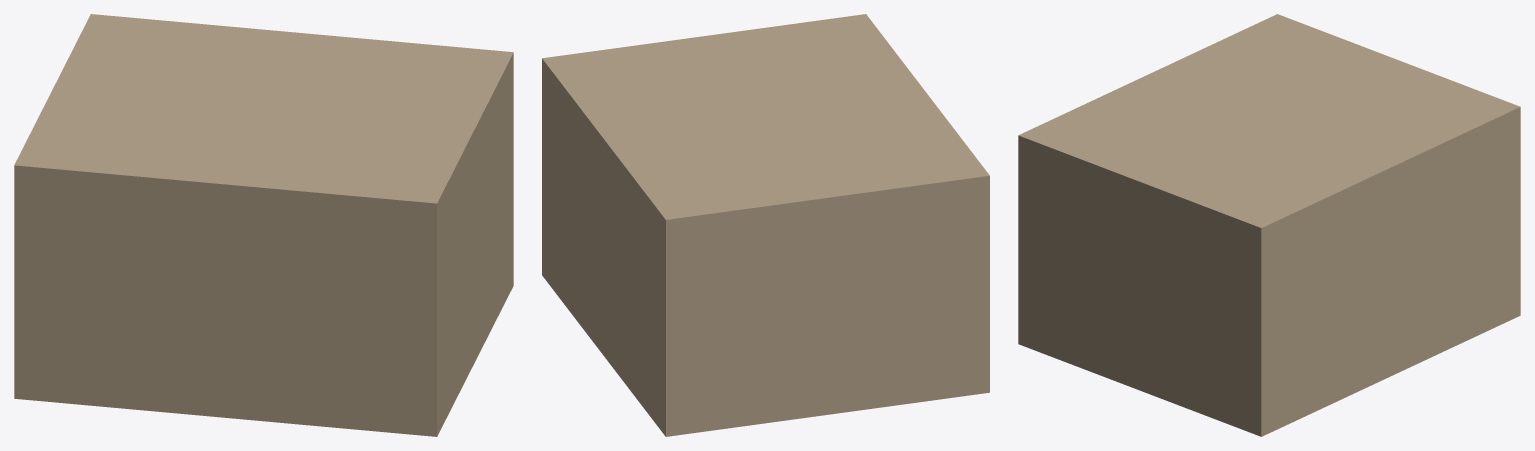
File: bld_106338948.dae
The picture shows the model from 3 angles, left to right: view 1: azimuth 30°, elevation 25°; view 2: azimuth 150°, elevation 25°; view 3: azimuth 270°, elevation 25°; orthographic projection. The views are drawn at different scales.
Visible parts, largest first — view 1: bld_106338948; view 2: bld_106338948; view 3: bld_106338948.
Boxes of the visible parts, x1=… form: bld_106338948: x1=14, y1=14, x2=513, y2=436; bld_106338948: x1=542, y1=14, x2=989, y2=436; bld_106338948: x1=1018, y1=14, x2=1520, y2=436.
Bounding box in the file's own units: 17.6 × 17.45 × 8.
